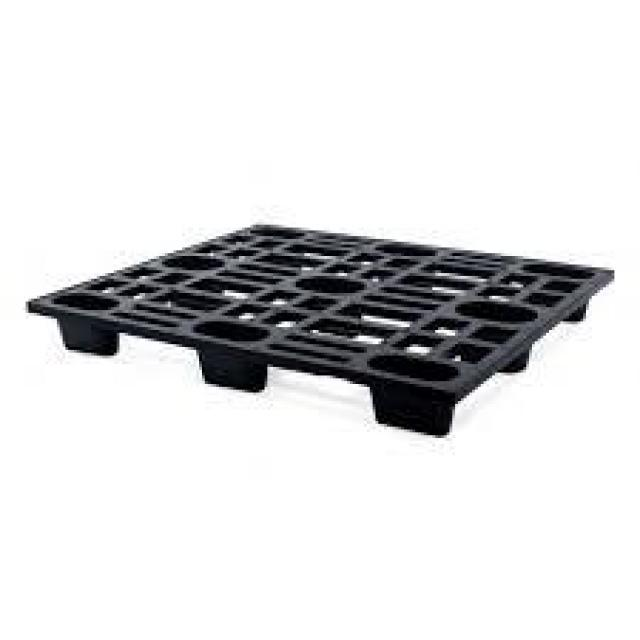block: (368, 374, 454, 438), (193, 337, 268, 394), (52, 306, 119, 361)
front: (30, 295, 458, 445)
